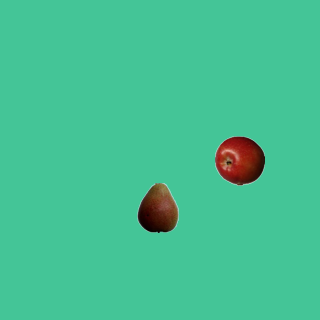Apple Braeburn: (214, 135, 264, 185)
Pear Forelle: (132, 182, 182, 232)
